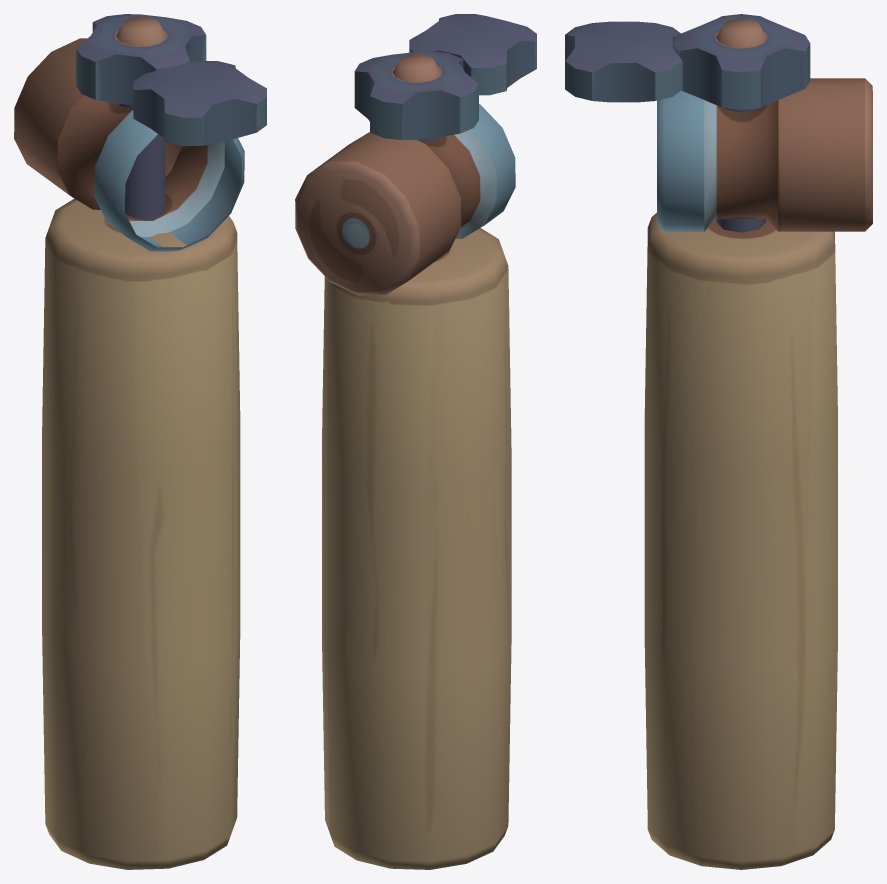
File: Pivoter.fbx
The picture shows the model from 3 angles, left to right: view 1: azimuth 30°, elevation 25°; view 2: azimuth 150°, elevation 25°; view 3: azimuth 270°, elevation 25°; orthographic projection. The views are drawn at different scales.
Visible parts, largest first — view 1: Roller, Pivoter, Cog; view 2: Roller, Pivoter, Cog; view 3: Roller, Pivoter, Cog.
Boxes of the visible parts, x1,y1,x2,y2 form: Roller: (42, 14, 240, 869); Pivoter: (14, 38, 244, 251); Cog: (133, 61, 266, 145); Roller: (322, 51, 511, 869); Pivoter: (295, 104, 515, 295); Cog: (409, 14, 536, 95); Roller: (644, 14, 837, 869); Pivoter: (657, 78, 872, 231); Cog: (565, 21, 682, 102).
Bounding box in the file's own units: 383 × 1719 × 593.
1 material, 1 textured.
